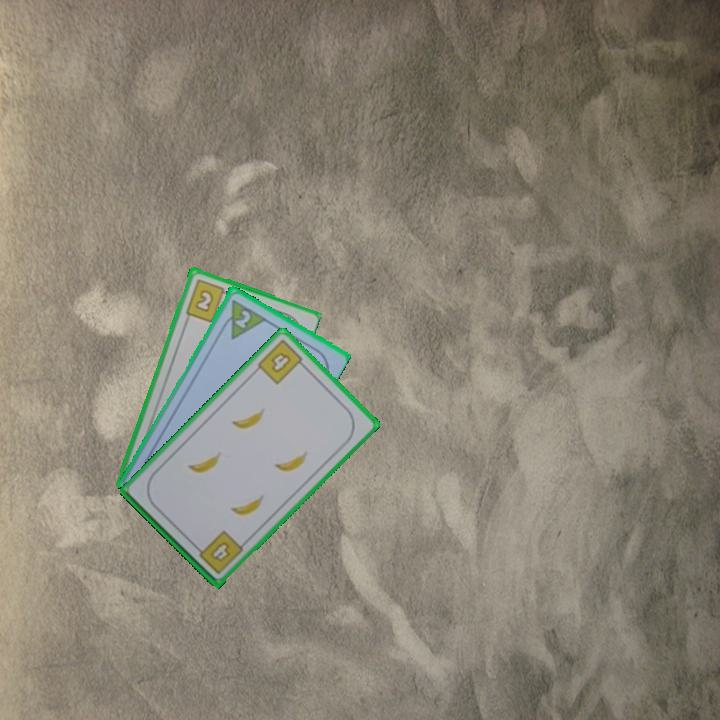2b: (182, 275, 232, 325)
2p: (216, 295, 268, 342)
4b: (254, 336, 309, 387), (191, 527, 246, 577)
